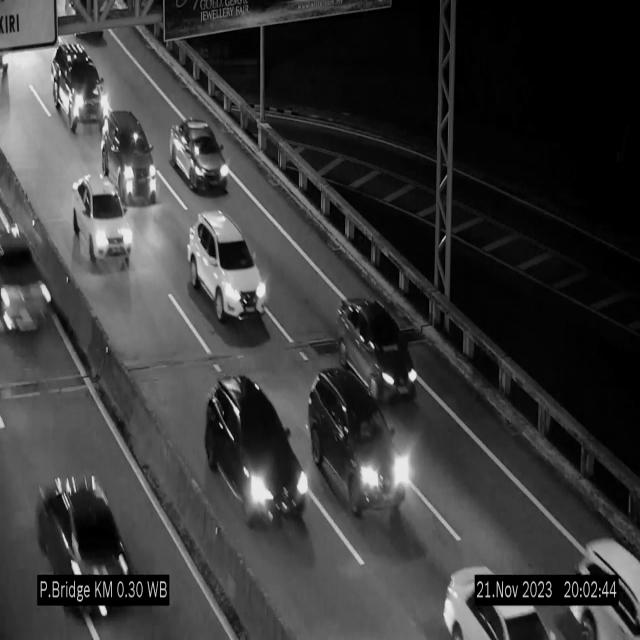Car: (202, 378, 314, 530), (310, 366, 408, 515), (338, 298, 426, 408), (187, 211, 267, 321), (100, 109, 160, 211), (72, 173, 133, 263), (51, 44, 111, 130), (170, 119, 228, 192)
